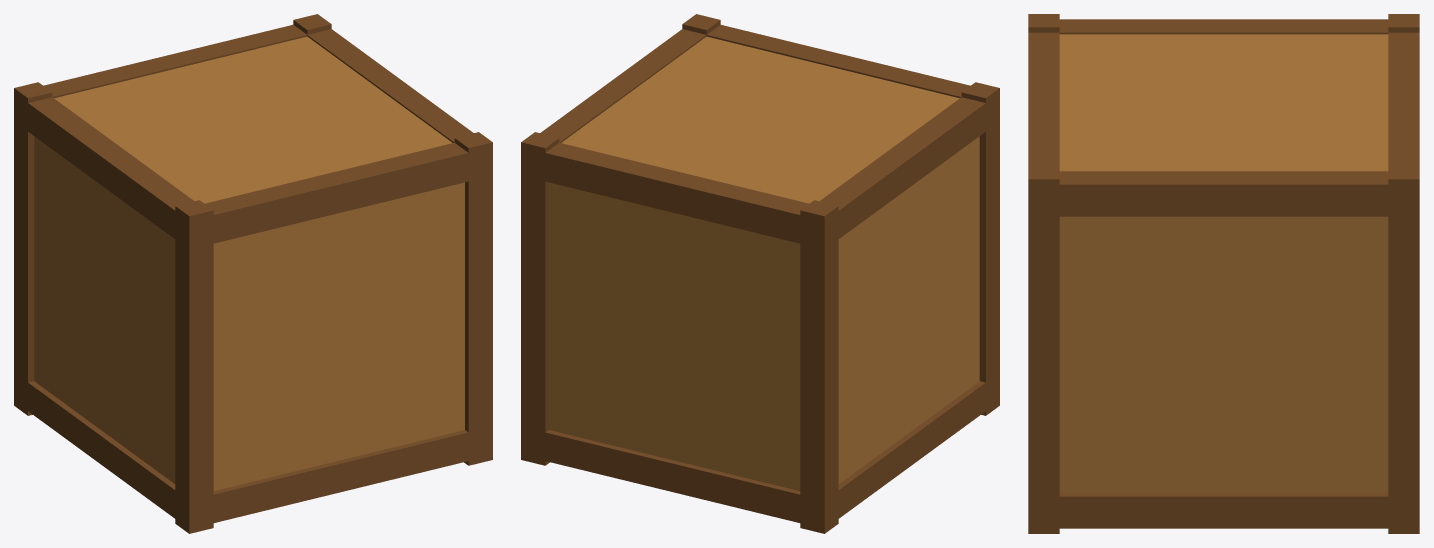
The model's file is obstacle.glb.
3 renders of one model, left to right at view 1: azimuth 30°, elevation 25°; view 2: azimuth 150°, elevation 25°; view 3: azimuth 270°, elevation 25°, orthographic. The views are drawn at different scales.
Parts seen in each view (by area): view 1: Obstacle; view 2: Obstacle; view 3: Obstacle.
Boxes of the visible parts, bbox=[...] form: Obstacle: bbox=[14, 14, 492, 533]; Obstacle: bbox=[521, 14, 999, 533]; Obstacle: bbox=[1028, 14, 1419, 533].
Size of the model in its own units: 2 by 2 by 2.
